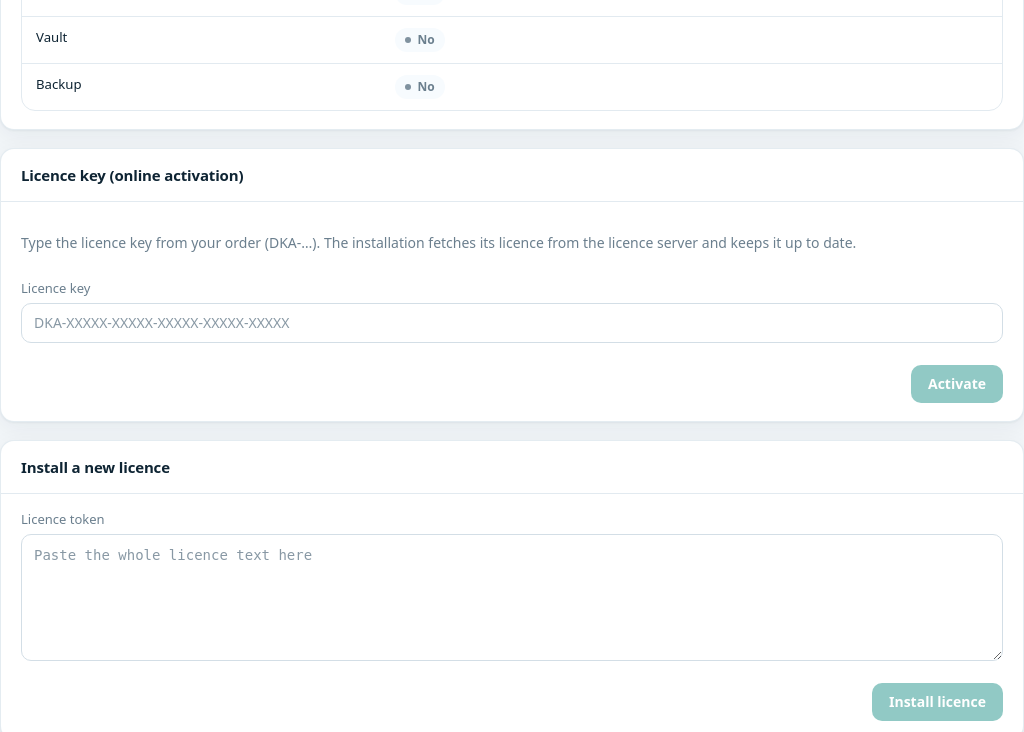
Test: a rejected licence shows the reason
(page scrolled)
Type "abc.def.ghi" into the text box labelled "Licence token" at x=512, y=597, box [21,534,1003,661]
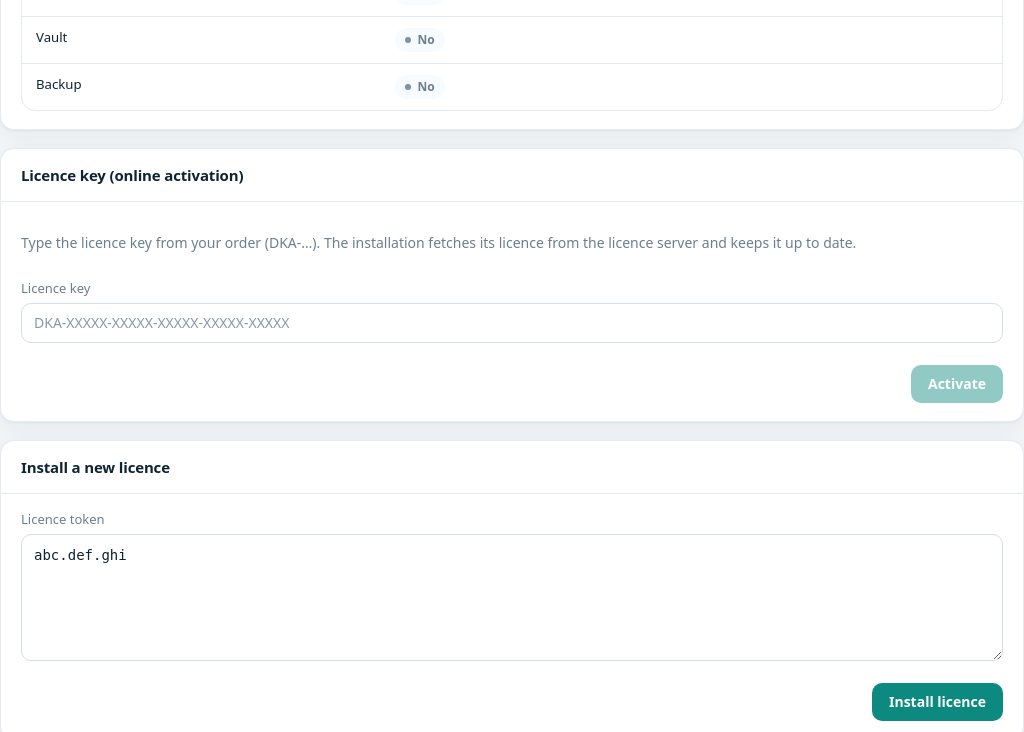
Click the button "Install licence" at x=938, y=702, box [872,683,1003,721]
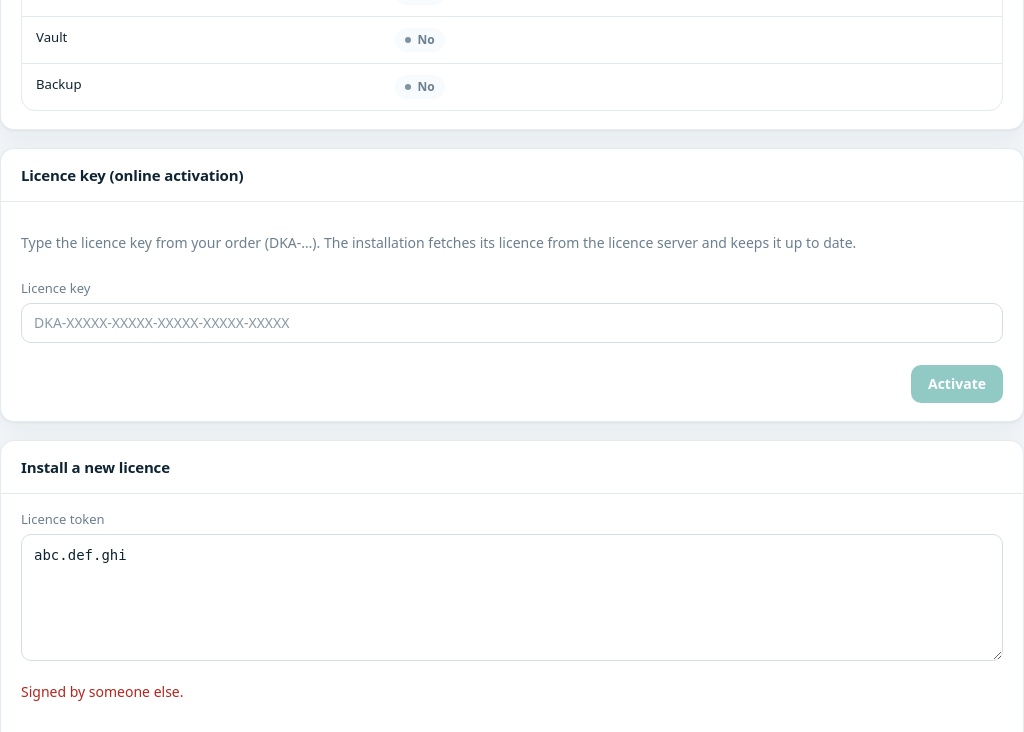
Now the text "Signed by someone else." is shown, box [21,682,184,701]
